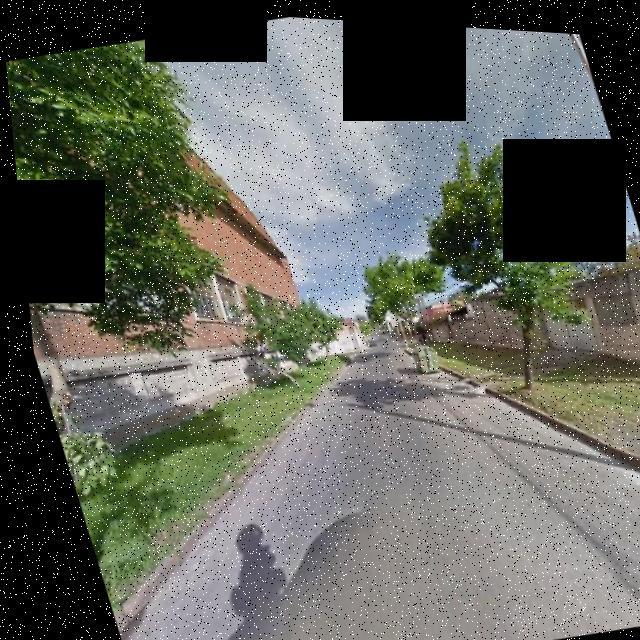bin: (396, 331, 442, 376)
